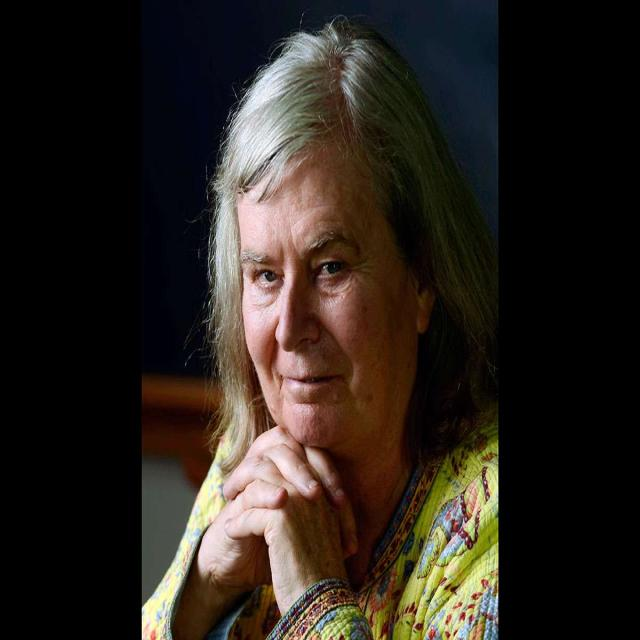human: (142, 21, 499, 640)
